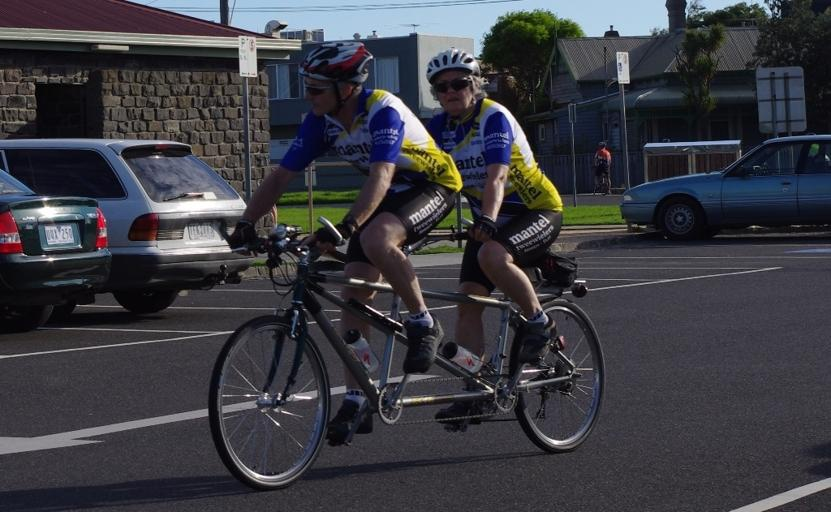non-vehicle: (205, 219, 607, 493), (591, 156, 613, 197)
